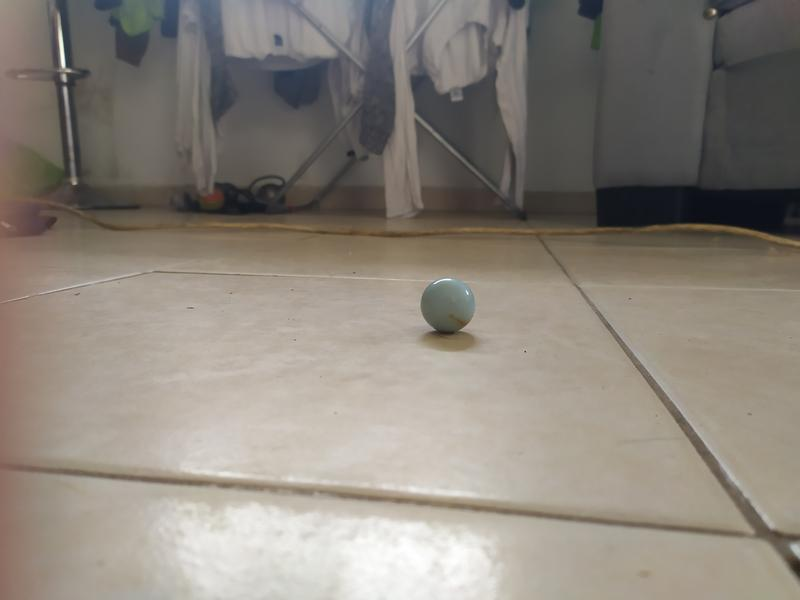Warning: (417, 275, 478, 336)
